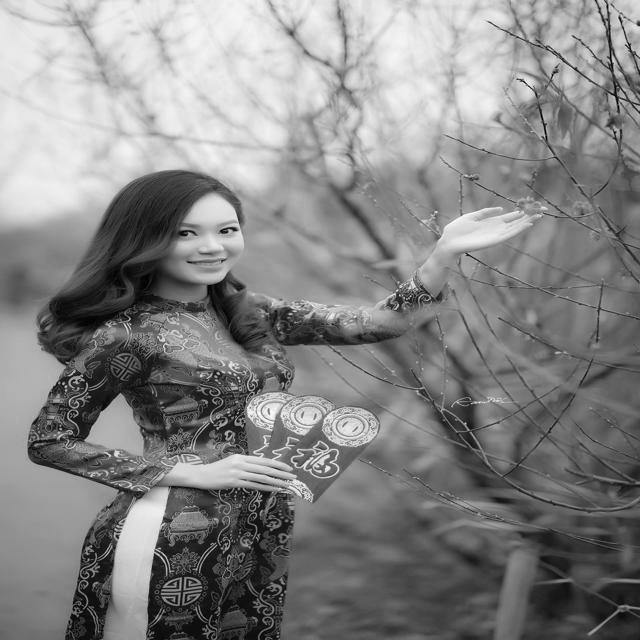Happiness: (168, 190, 247, 287)
